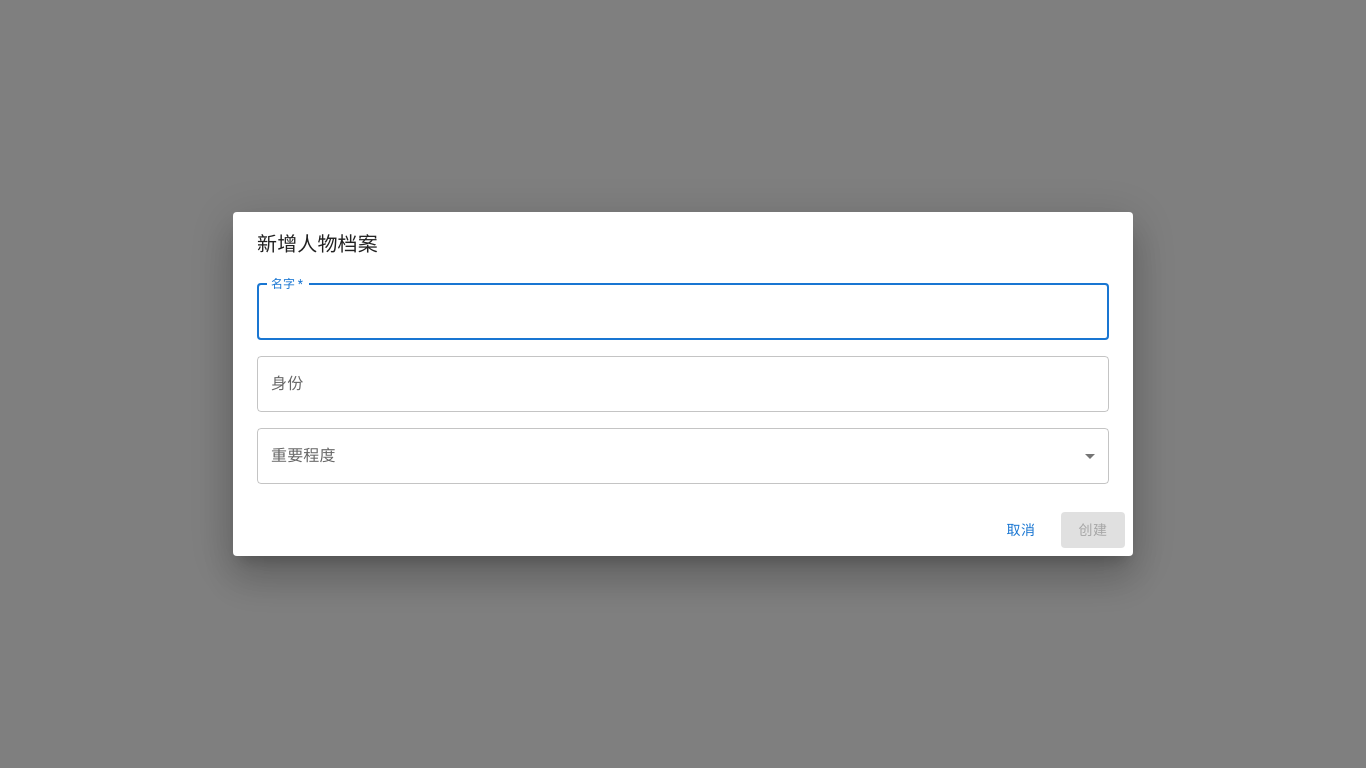
Test: 人物表单弹窗 › 保存失败诚实展示原因，不关窗不假装成功
Type "沈孤鸿" into the field labelled "名字 *" at (683, 312), box [257, 284, 1109, 340]
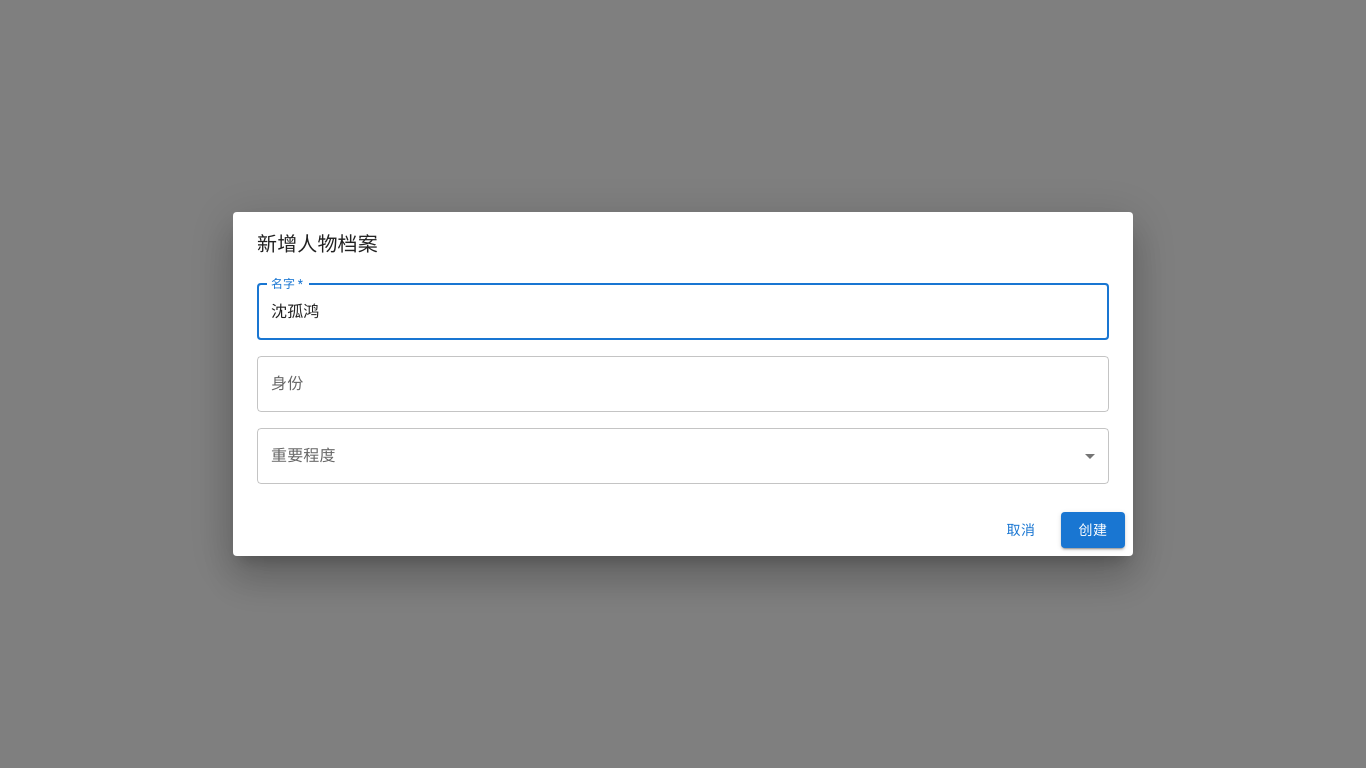
Click the button "创建" at (1093, 530), box [1061, 512, 1125, 548]
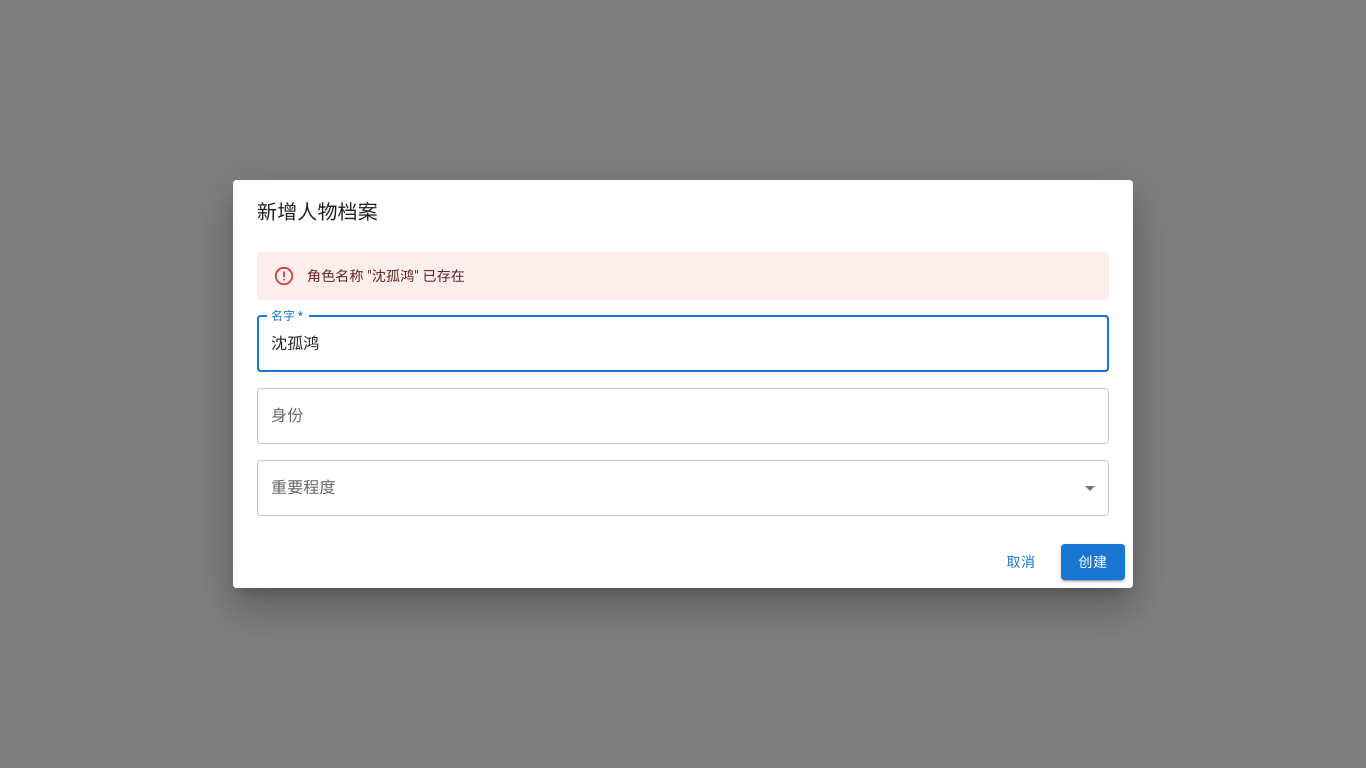
Now the text "角色名称 \"沈孤鸿\" 已存在" is shown, box [307, 268, 465, 284]
